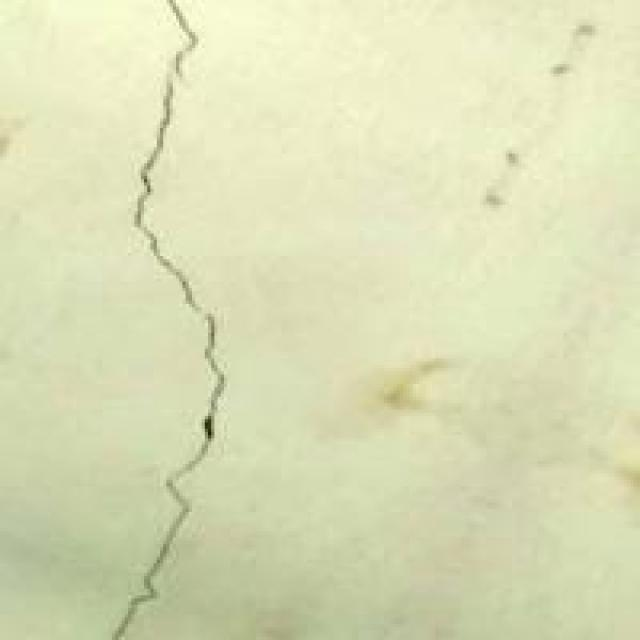Crack: (93, 0, 259, 637)
